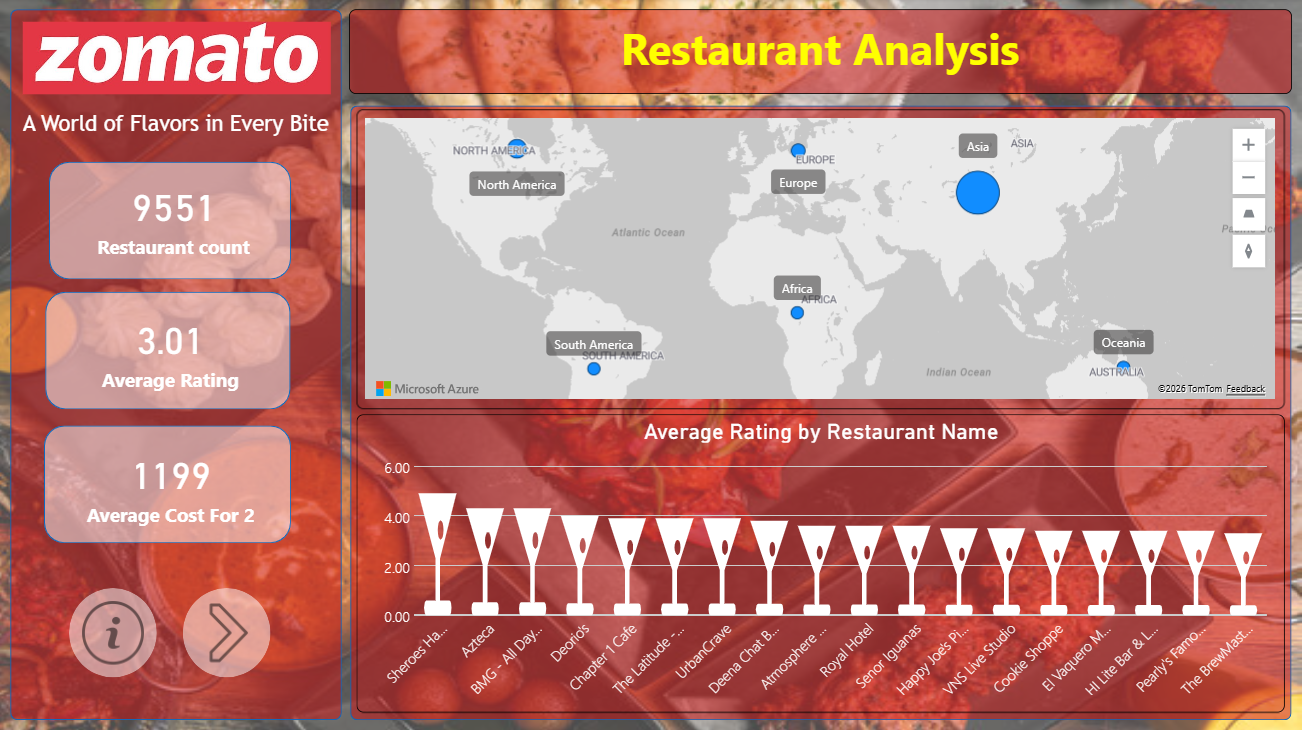

What the dashboard file says about the page in this screenshot:
{"tool":"powerbi","page":{"name":"Restaurant Overview","canvas":[1280,720],"ordinal":0},"visuals":[{"type":"textbox","box":[343.2,11.4,925.5,83],"z":0},{"type":"shape","box":[11.4,11.4,325.3,697.8],"z":1000},{"type":"image","box":[22.8,22.8,302.5,71.6],"z":2000},{"type":"card","fields":{"Values":["Measure.Restaurant count"]},"box":[0,161,343.2,109],"z":3000},{"type":"card","fields":{"Values":["Measure.Average rating"]},"box":[4.9,287.9,326.9,115.5],"z":4000},{"type":"shape","box":[48.8,161,237.5,115.5],"z":5000},{"type":"shape","box":[45.5,287.9,240.7,115.5],"z":6000},{"type":"shape","box":[43.9,419.6,242.4,115.5],"z":7000},{"type":"card","fields":{"Values":["Measure.Average cost"]},"box":[6.5,413.1,325.3,130.1],"z":8000},{"type":"actionButton","box":[180.5,579,86.2,87.8],"z":9000},{"type":"textbox","box":[17.9,105.7,325.3,43.9],"z":10000},{"type":"shape","box":[344.8,105.7,923.9,603.4],"z":11000},{"type":"azureMap","fields":{"Category":["Zomato Master Table.Continent Hierarchy.Continent","Zomato Master Table.Continent Hierarchy.Country","Zomato Master Table.Continent Hierarchy.City"],"Size":["Measure.Restaurant count"]},"box":[351.3,109,910.9,294.4],"z":12000},{"type":"PBI_CV_73744D90_4DC9_4F18_8BA5_EE8FA5C98035","fields":{"Category":["Zomato Master Table.Restaurant Name"],"Values":["Measure.Average Rating"]},"box":[351.3,408.3,910.9,292.8],"z":13000},{"type":"actionButton","box":[68.3,579,86.2,87.8],"z":14000}]}

Visuals, with their boxes in screenshot pixels (x1, y1, x2, y2), scaled from the page's 1280x720 canvas onto the 1302x730 screenshot:
textbox: rect(349, 12, 1291, 96)
shape: rect(12, 12, 342, 719)
image: rect(23, 23, 331, 96)
card - Measure.Restaurant count: rect(0, 163, 349, 274)
card - Measure.Average rating: rect(5, 292, 338, 409)
shape: rect(50, 163, 291, 280)
shape: rect(46, 292, 291, 409)
shape: rect(45, 425, 291, 543)
card - Measure.Average cost: rect(7, 419, 338, 551)
actionButton: rect(184, 587, 271, 676)
textbox: rect(18, 107, 349, 152)
shape: rect(351, 107, 1291, 719)
azureMap - Zomato Master Table.Continent Hierarchy.Continent x Zomato Master Table.Continent Hierarchy.Country: rect(357, 111, 1284, 409)
PBI_CV_73744D90_4DC9_4F18_8BA5_EE8FA5C98035 - Zomato Master Table.Restaurant Name x Measure.Average Rating: rect(357, 414, 1284, 711)
actionButton: rect(69, 587, 157, 676)
